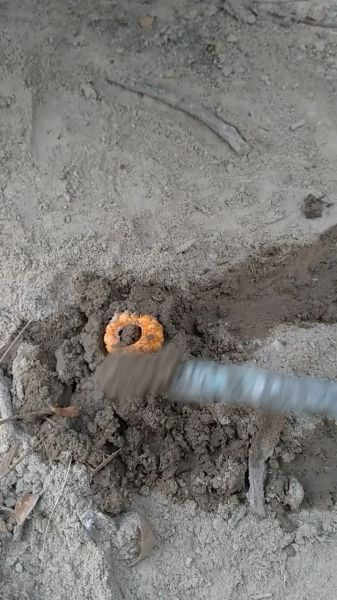eggs: (101, 304, 167, 357)
